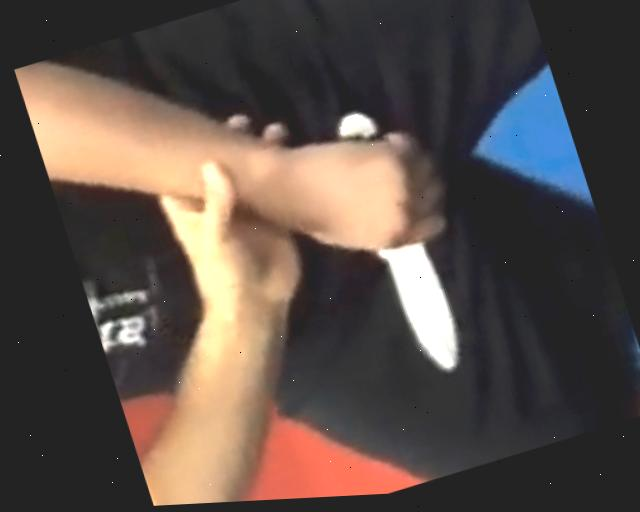pocket-knife: (316, 99, 474, 395)
